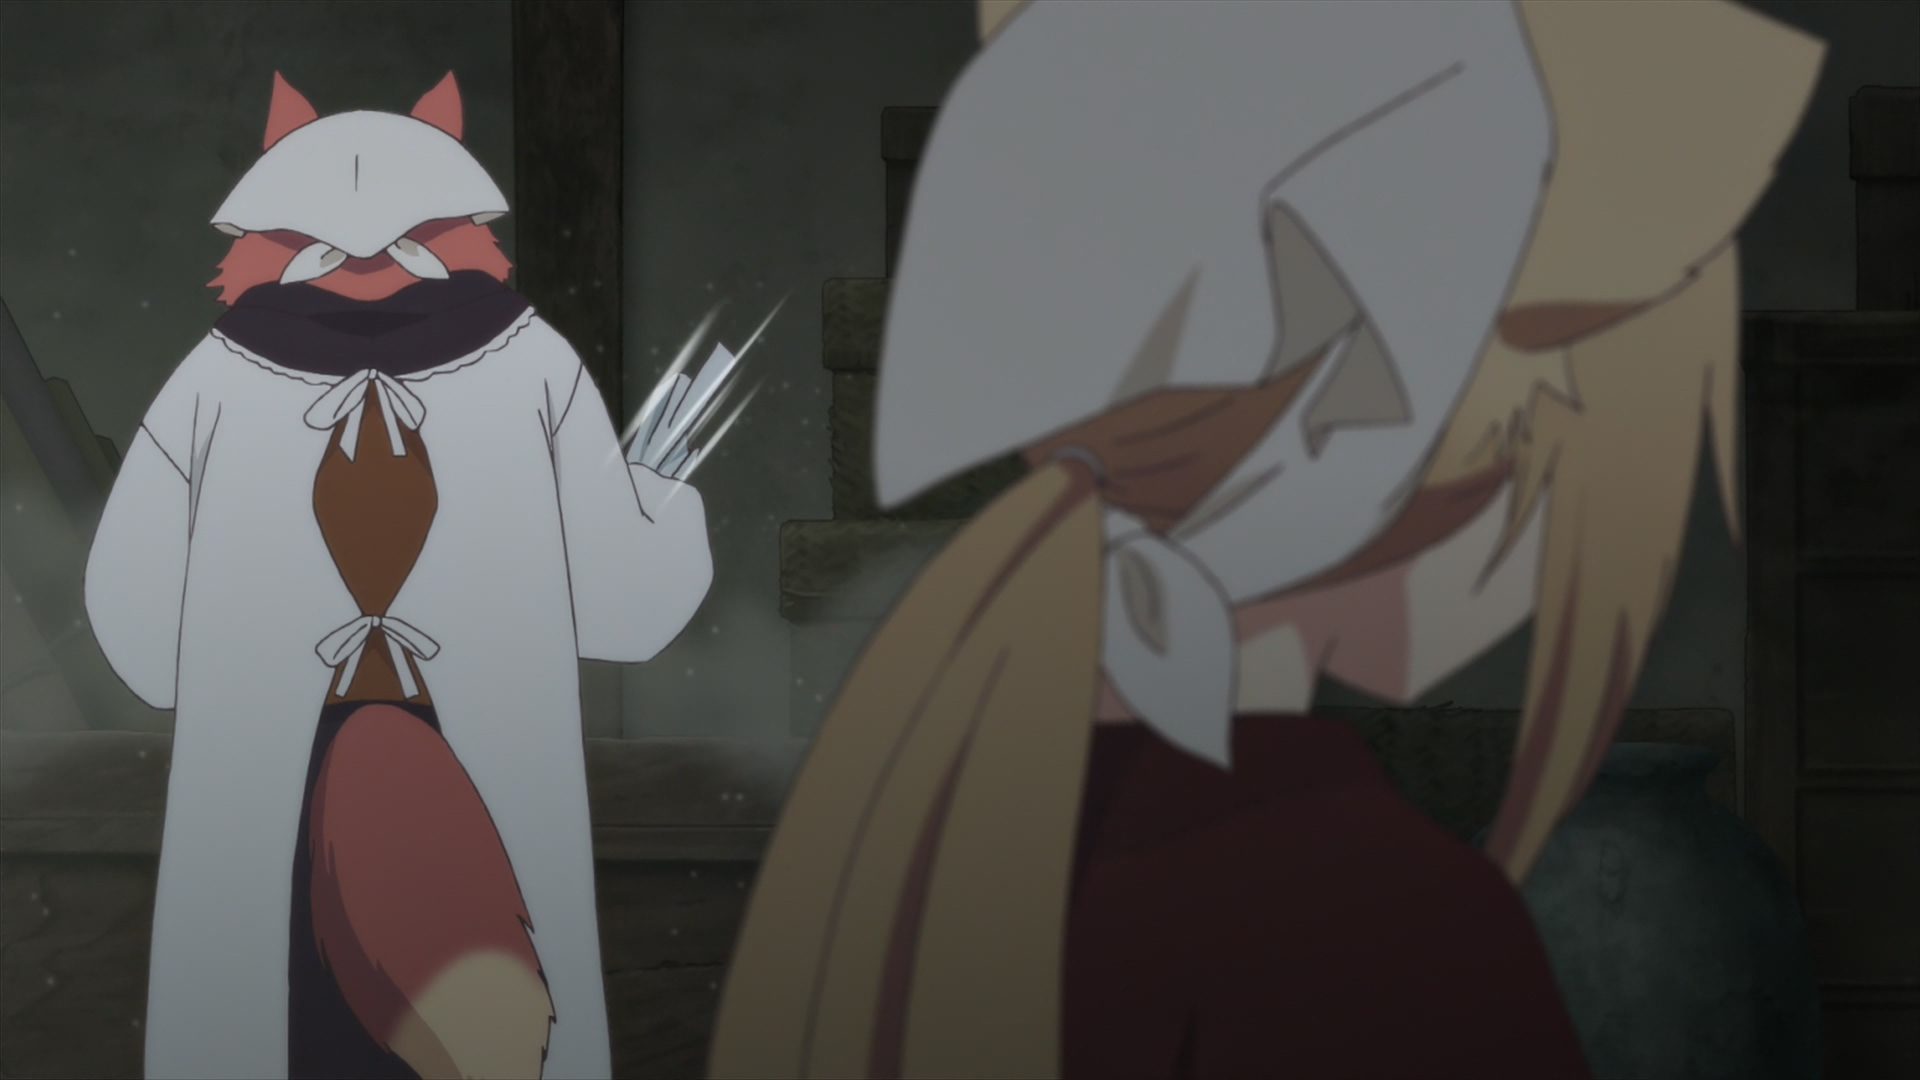柚: (707, 1, 1826, 1080)
椿: (84, 69, 716, 1080)
